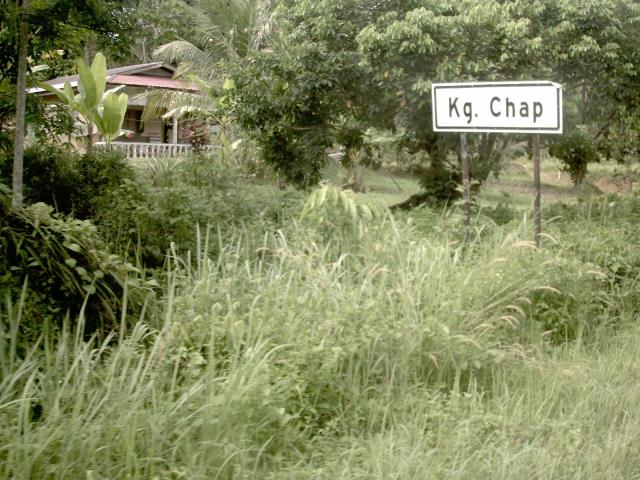ads_sign: (421, 67, 573, 142)
